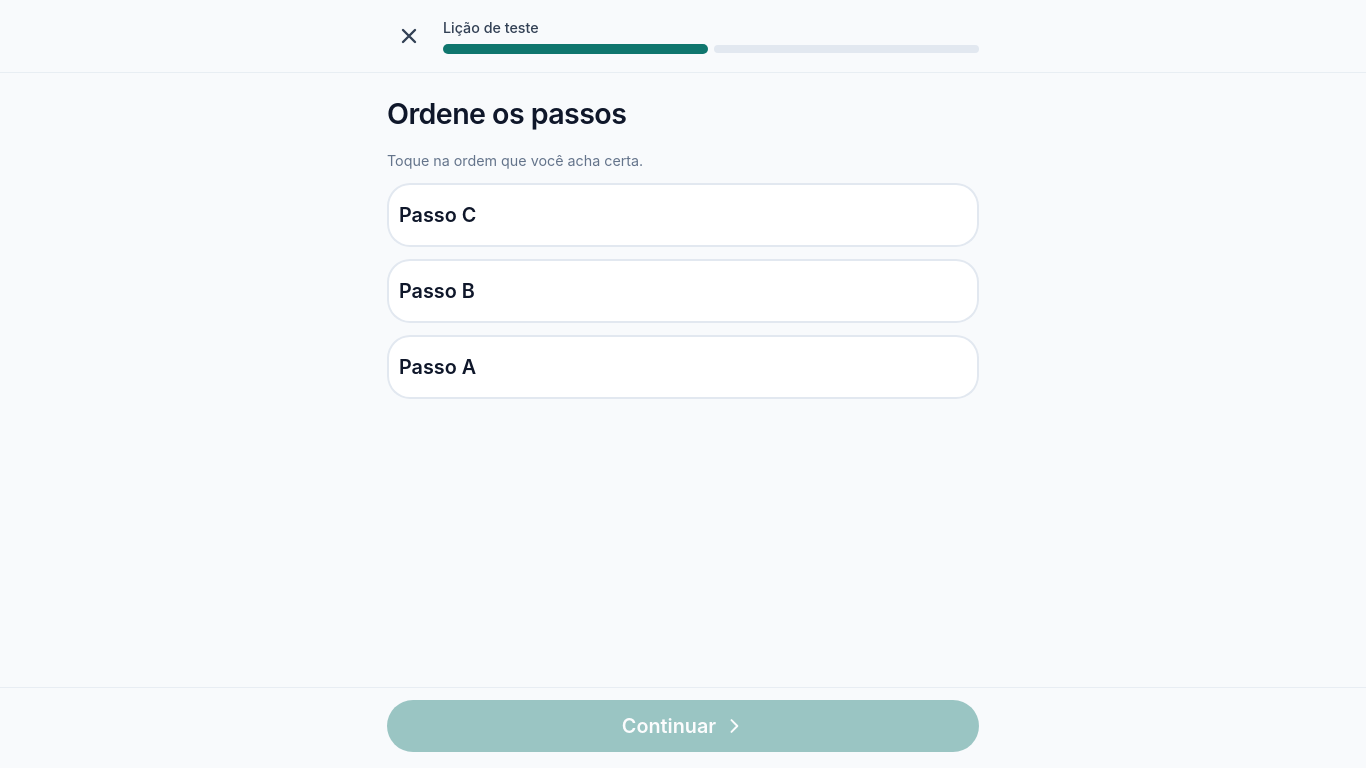
Test: ordering: seleção e ordenação reversíveis antes da confirmação › desmarcar o primeiro item recalcula a numeração dos demais
Click the button "Passo A" at (438, 367), box [387,335,979,399]
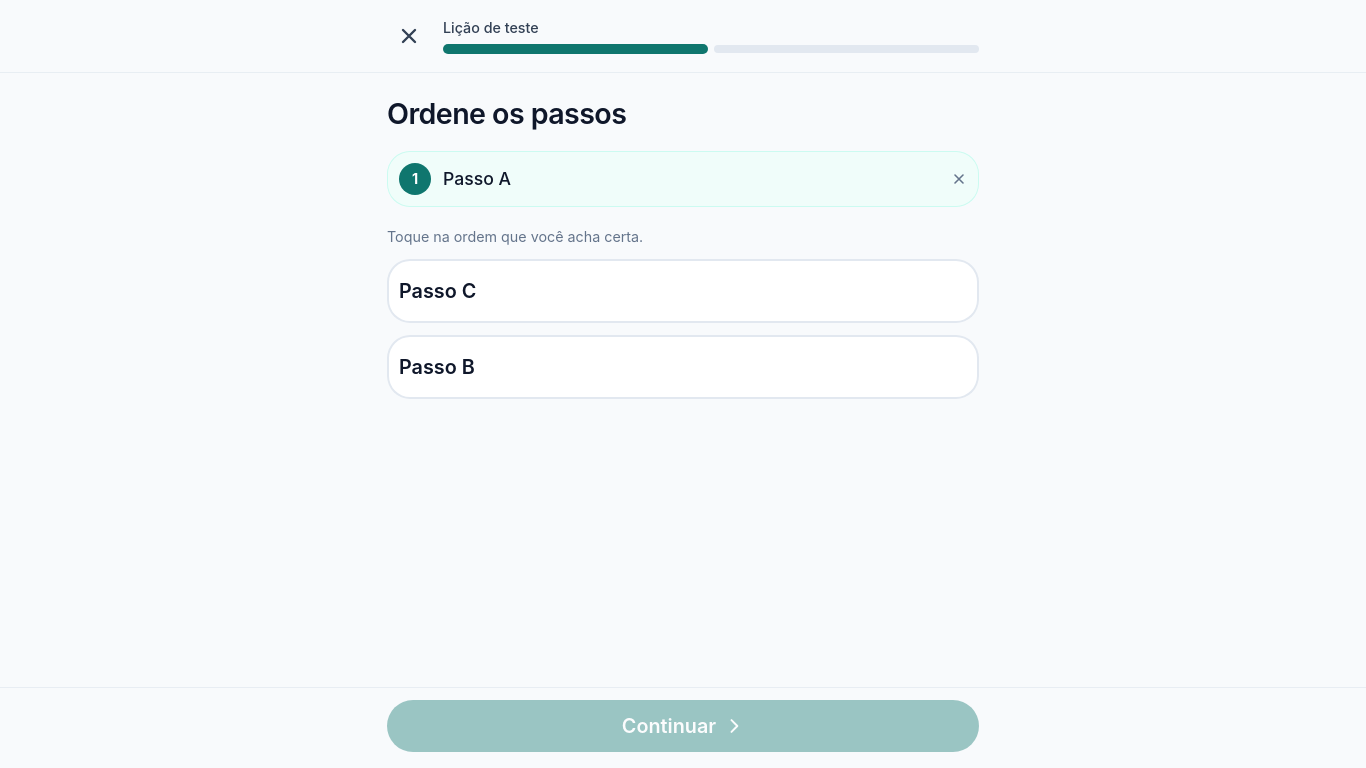
Click the button "Passo B" at (437, 367), box [387,335,979,399]
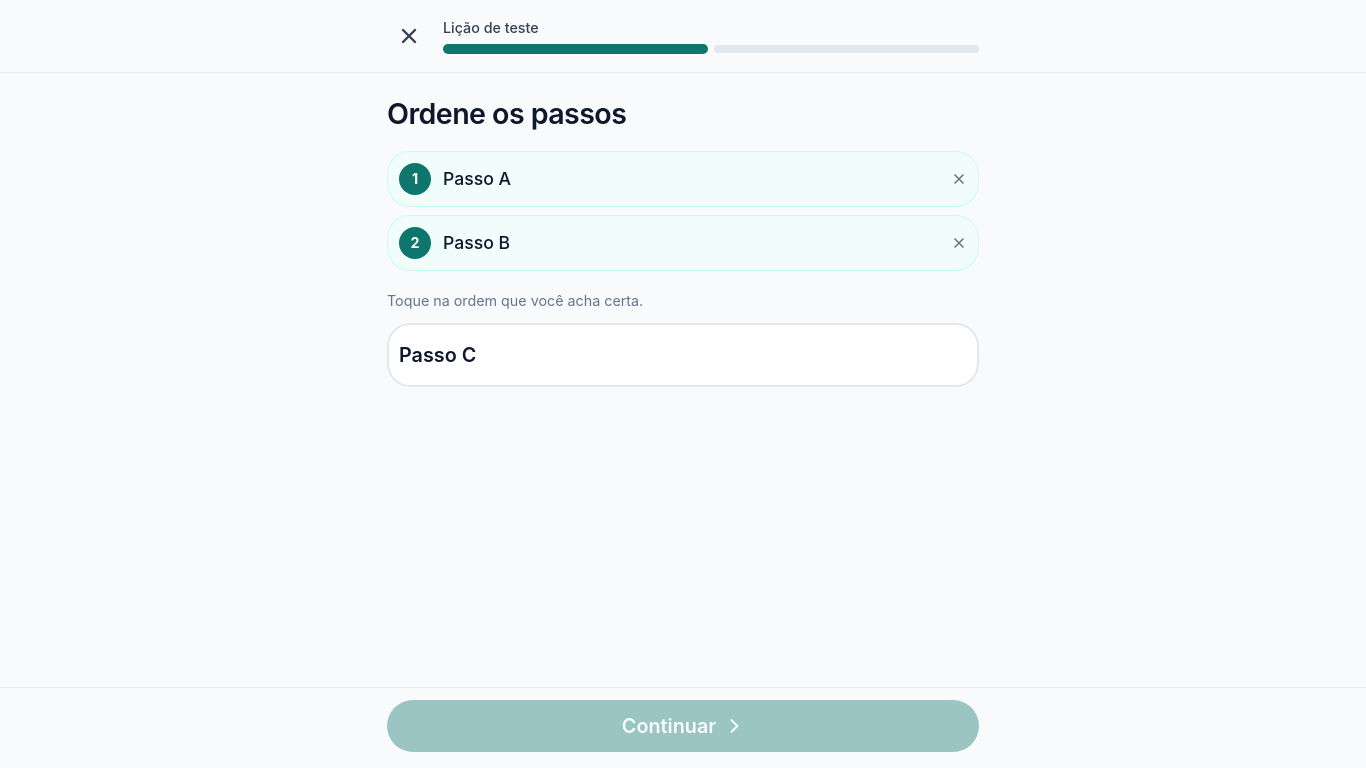
Click the button with aria-label "Retirar Passo A" at (415, 179), box [387,151,979,207]
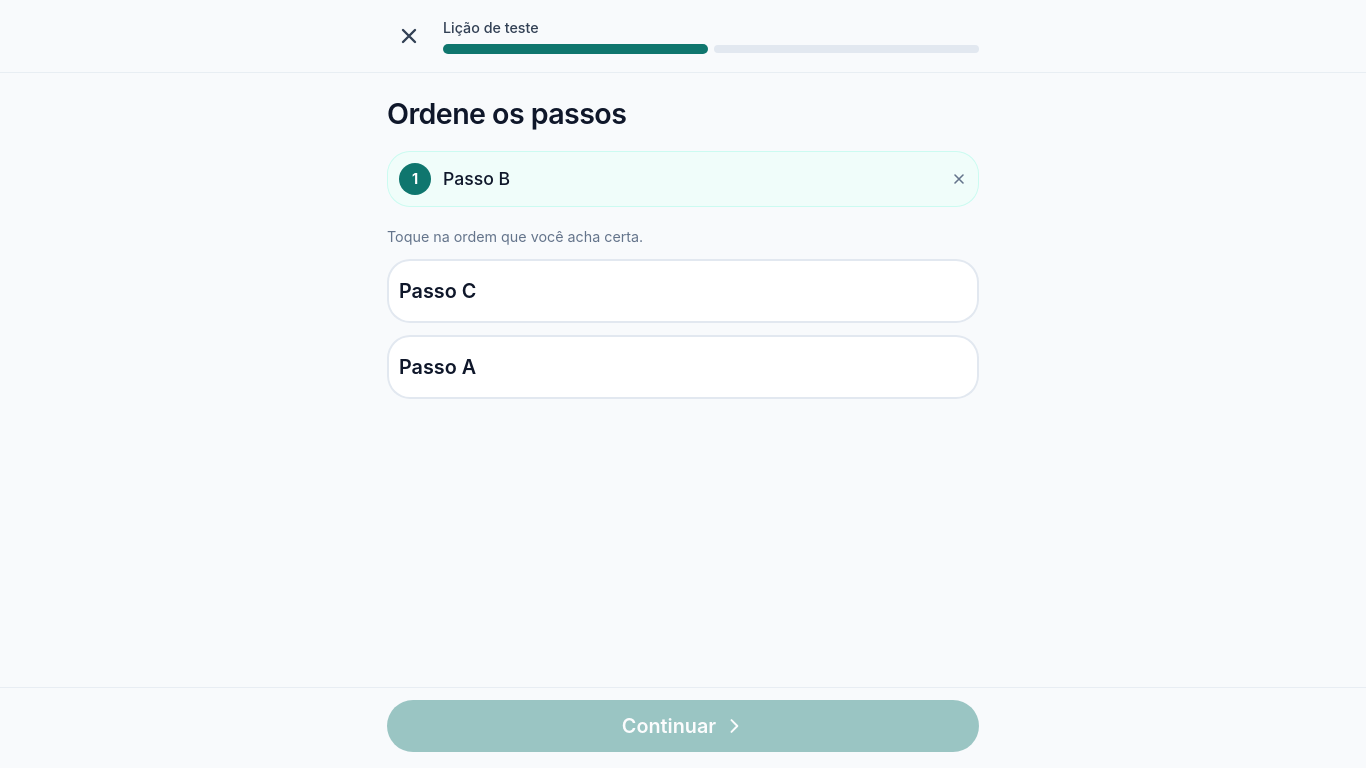
Expected: the list item "1 Passo B" is shown, [387,151,979,207]
